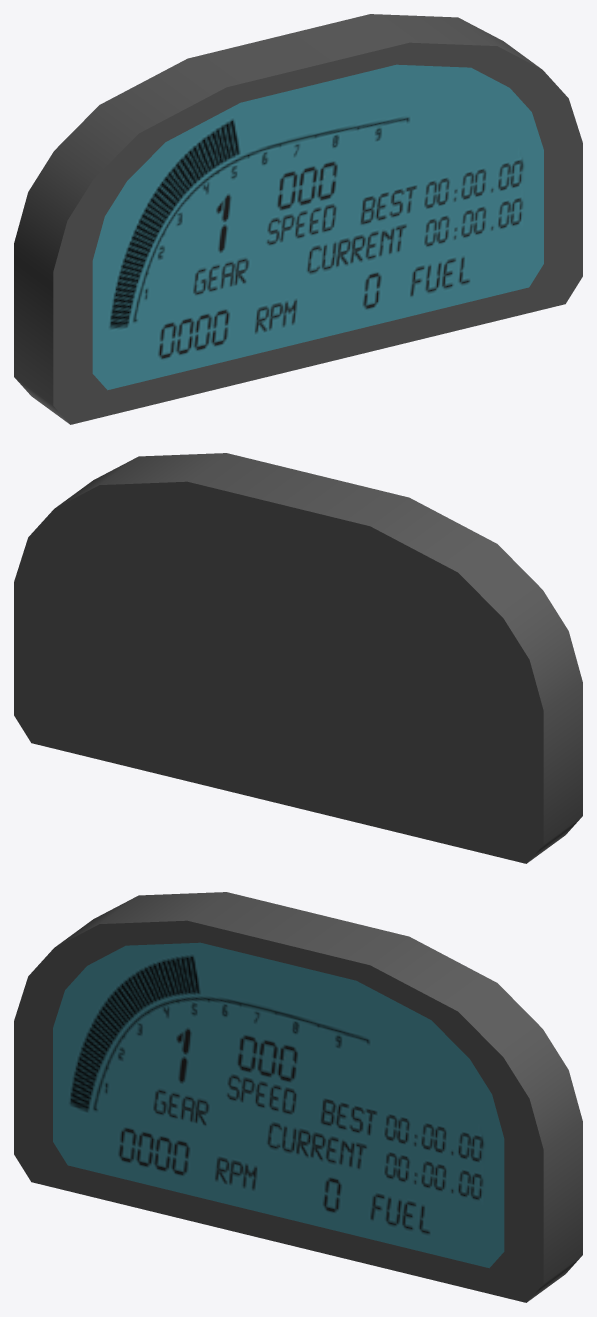
3 views of the same model, one above another, from view 1: azimuth 30°, elevation 25°; view 2: azimuth 150°, elevation 25°; view 3: azimuth 330°, elevation 25° (orthographic).
Parts seen in each view (by area): view 1: RD01_LOW; view 2: RD01_LOW; view 3: RD01_LOW.
Boxes of the visible parts, x1,y1,x2,y2 form: RD01_LOW: (14,14,582,424); RD01_LOW: (14,453,582,863); RD01_LOW: (14,892,582,1302).
Size of the model in its own units: 0.1779 by 0.0961 by 0.023.
